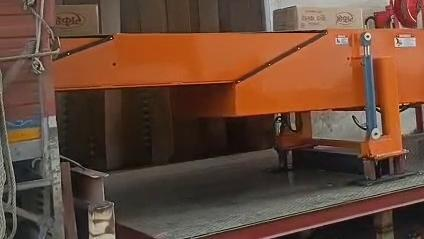box: (273, 5, 363, 30), (54, 4, 100, 36)
